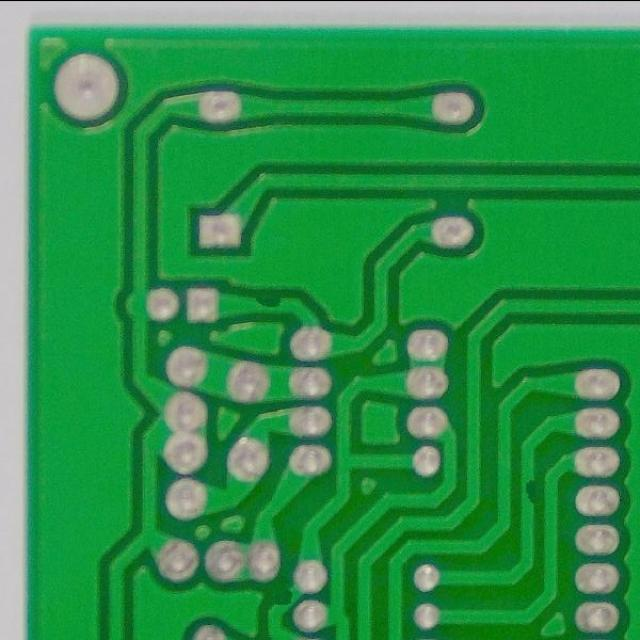MouseBite: (244, 291, 294, 315), (516, 472, 541, 510)
